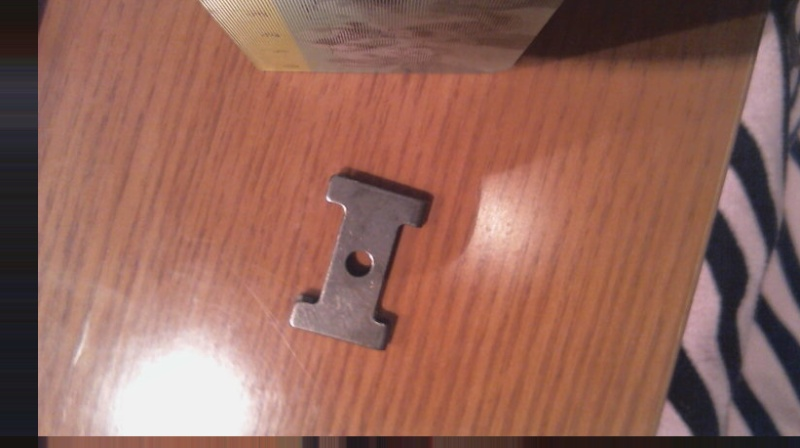O002: (287, 171, 433, 352)
